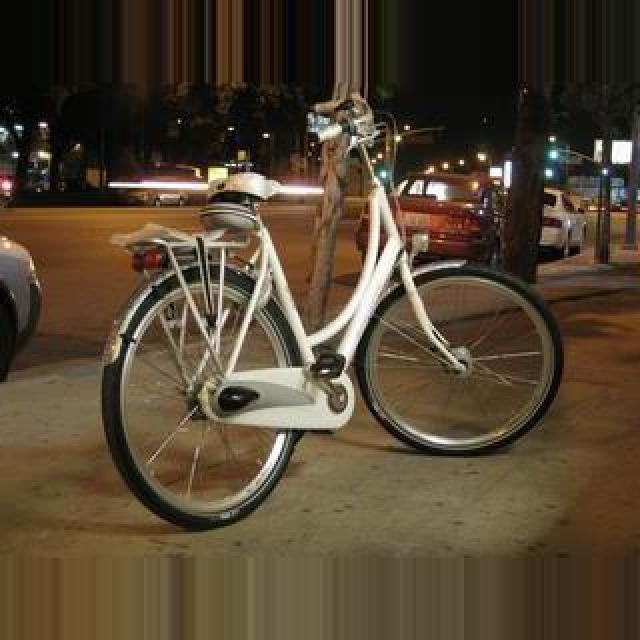Bus-Bike: (358, 164, 498, 264), (538, 188, 586, 258)
Person: (92, 152, 568, 532)
